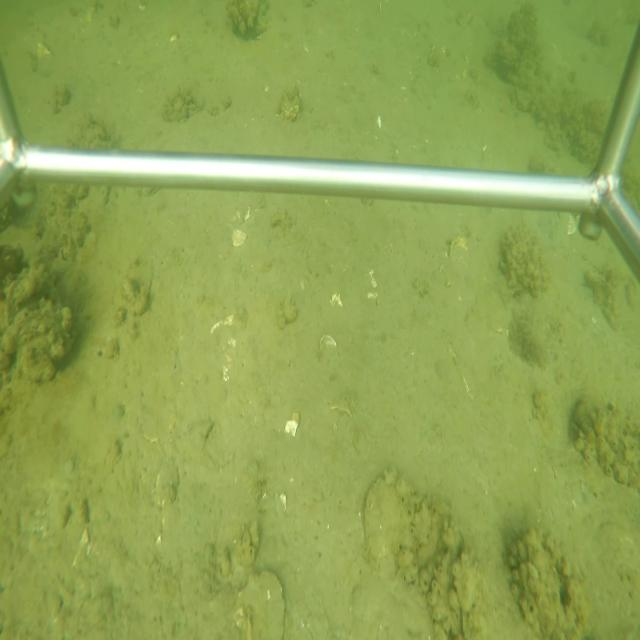Oyster-Indeterminate: (363, 468, 443, 583), (233, 566, 287, 636)
